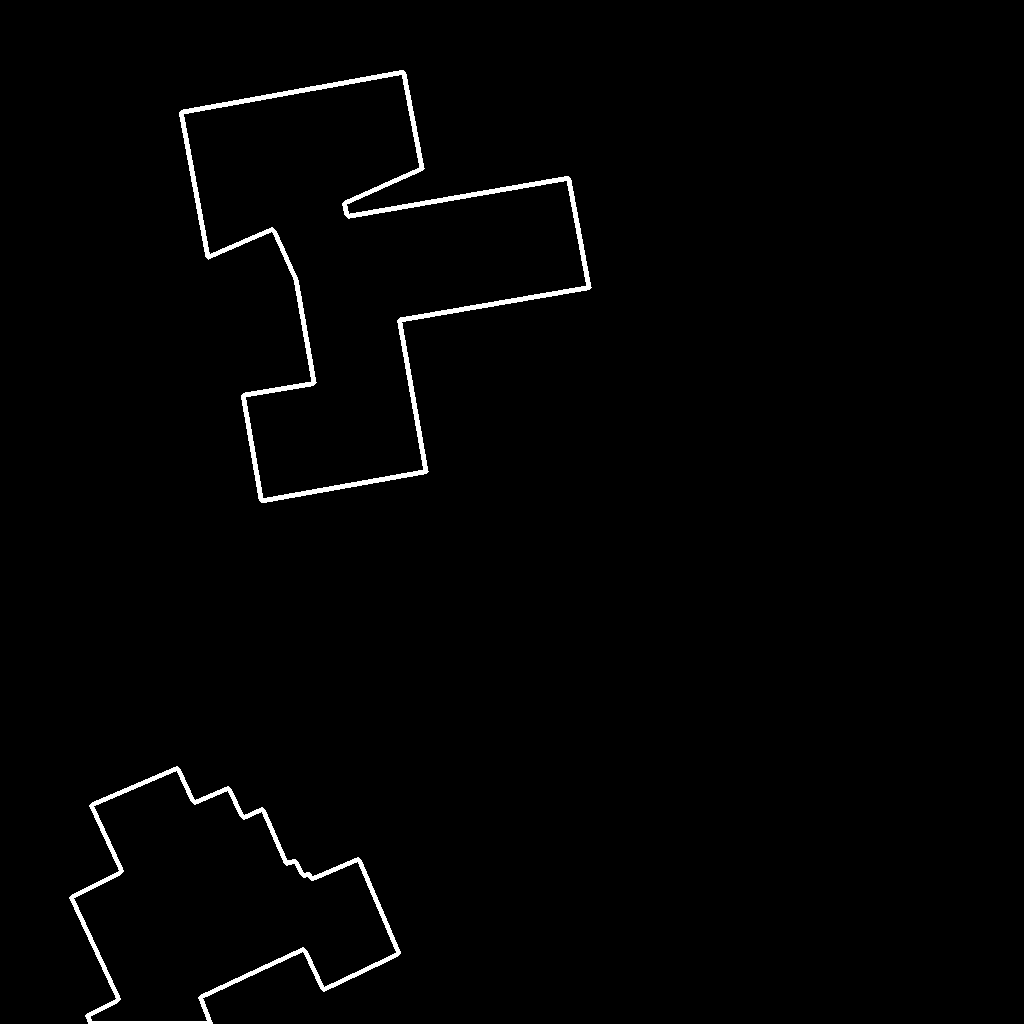building: (181, 72, 590, 502), (71, 768, 400, 1024)
